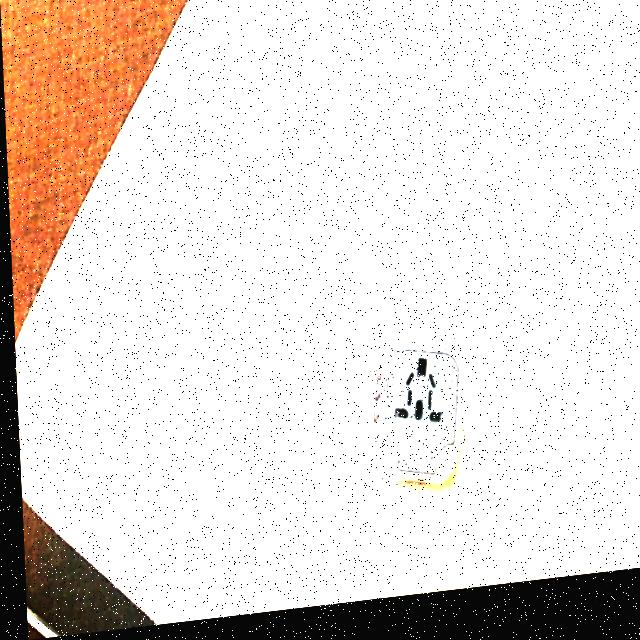adapter: (364, 346, 462, 499)
